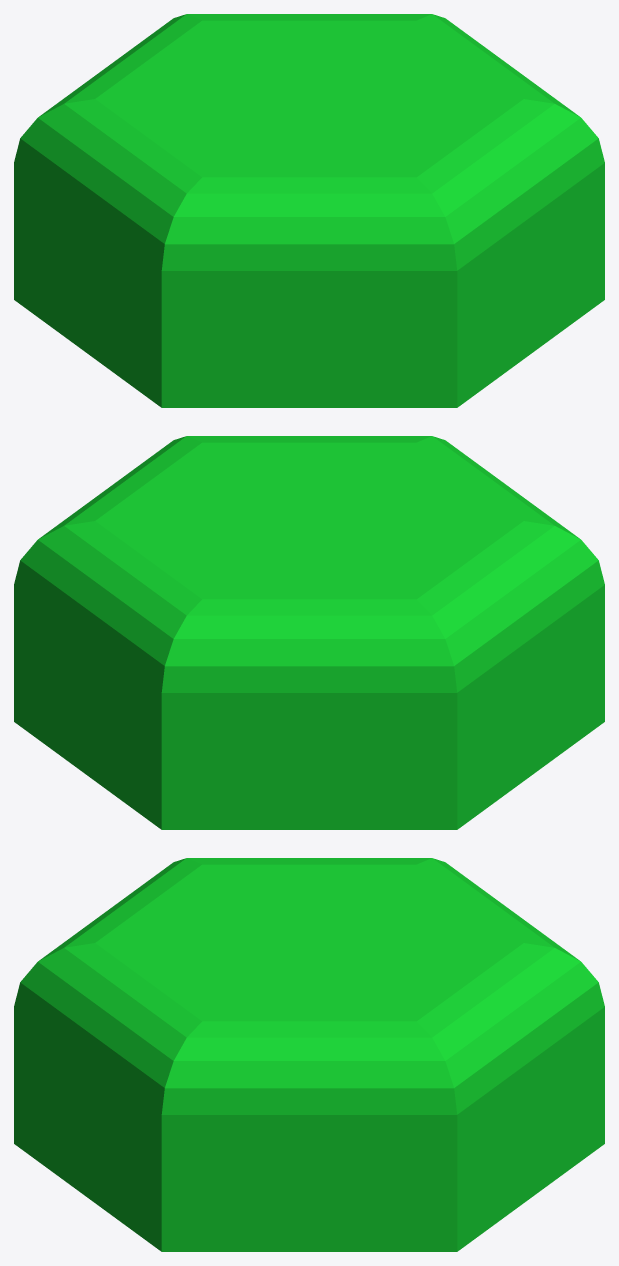
File: Arkanoid_Assets_Green.fbx
The picture shows the model from 3 angles, top to bottom: view 1: azimuth 30°, elevation 25°; view 2: azimuth 150°, elevation 25°; view 3: azimuth 270°, elevation 25°; orthographic projection.
Visible parts, largest first — view 1: Puntos02; view 2: Puntos02; view 3: Puntos02.
Part boxes in pixels (bbox=[...]): Puntos02: bbox=[14, 14, 604, 407]; Puntos02: bbox=[14, 436, 604, 829]; Puntos02: bbox=[14, 858, 604, 1251].
Size of the model in its own units: 346 by 150 by 400.
